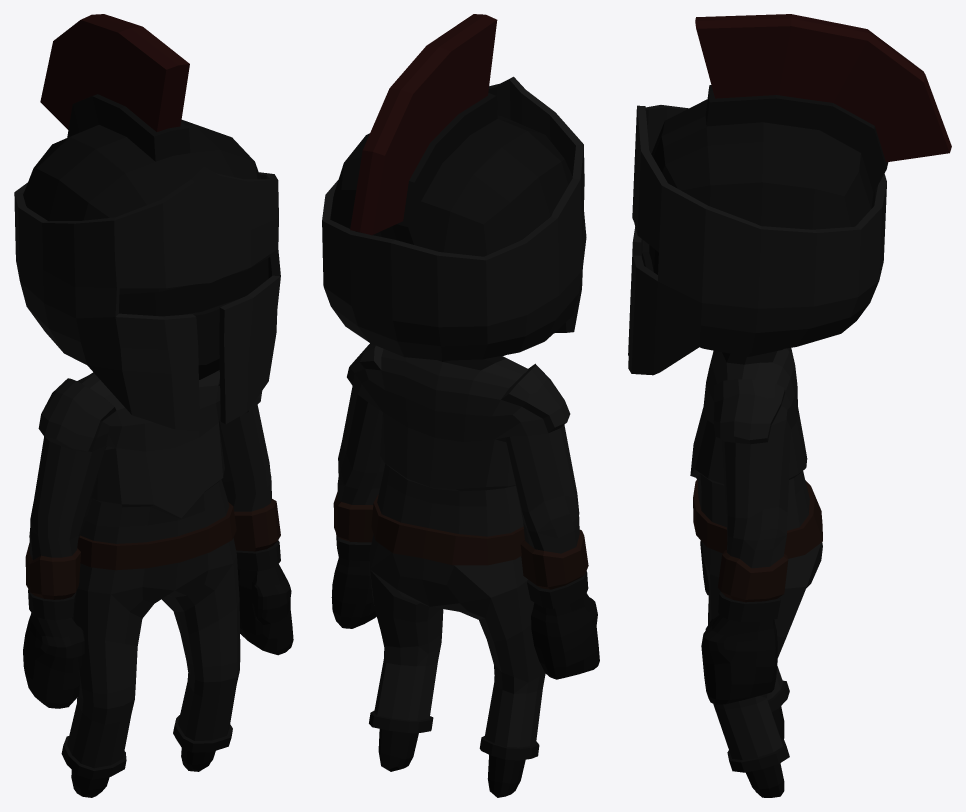
The model's file is Knight_Male.obj.
The picture shows the model from 3 angles, left to right: view 1: azimuth 30°, elevation 25°; view 2: azimuth 150°, elevation 25°; view 3: azimuth 270°, elevation 25°; orthographic projection.
Visible parts, largest first — view 1: Body_Cube.000; view 2: Body_Cube.000; view 3: Body_Cube.000.
Part boxes in pixels (left/top/right/bottom): Body_Cube.000: left=14, top=14, right=293, bottom=797; Body_Cube.000: left=322, top=14, right=599, bottom=797; Body_Cube.000: left=628, top=14, right=951, bottom=797.
Bounding box in the file's own units: 1.28 × 3.54 × 1.38.
